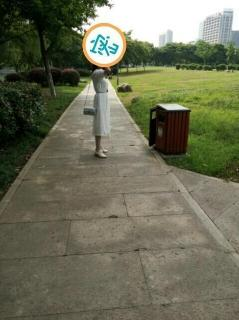short sleeve dress: (92, 68, 111, 136)
